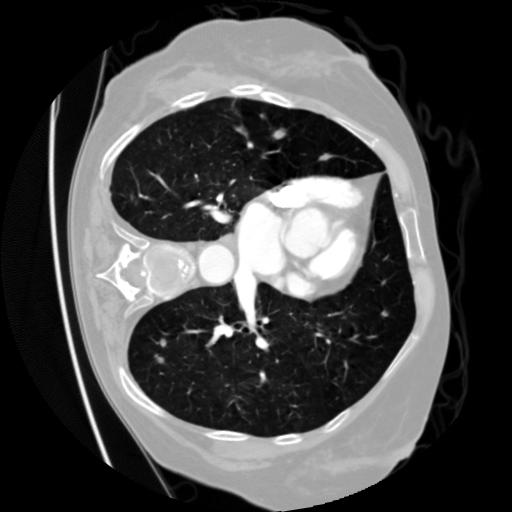nodule: (156, 335, 172, 351)
